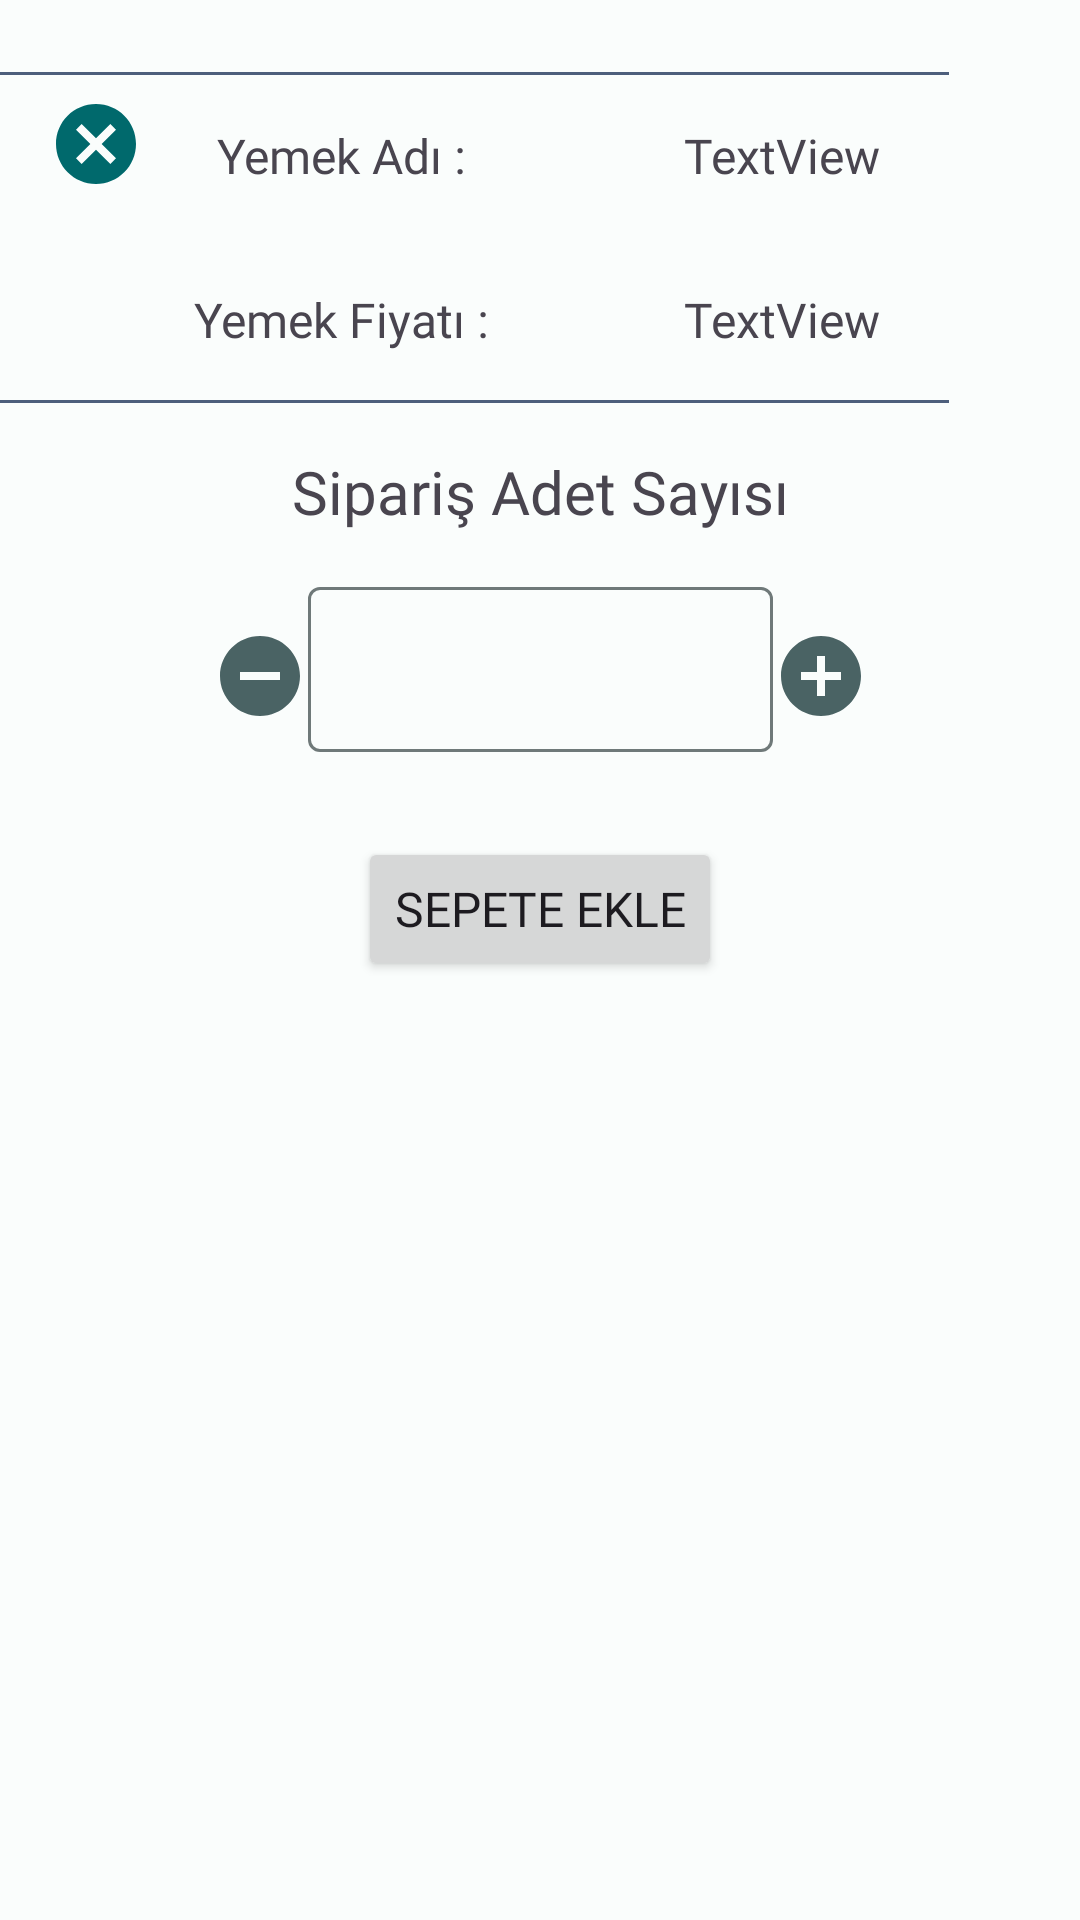

Where to tap for icons on this 1080x1920 app screen, as (x=x, y=y):
add circle: (x=821, y=676)
cancel: (x=96, y=144)
remove circle: (x=260, y=676)
